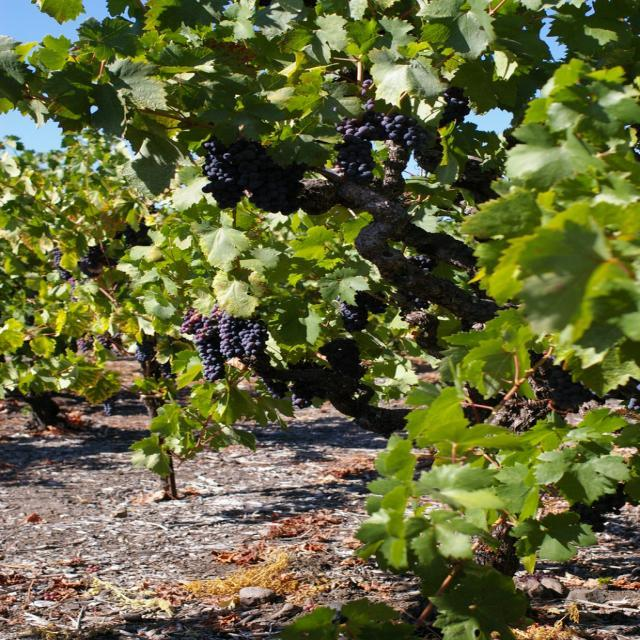Non_Gorille: (2, 4, 640, 640)
